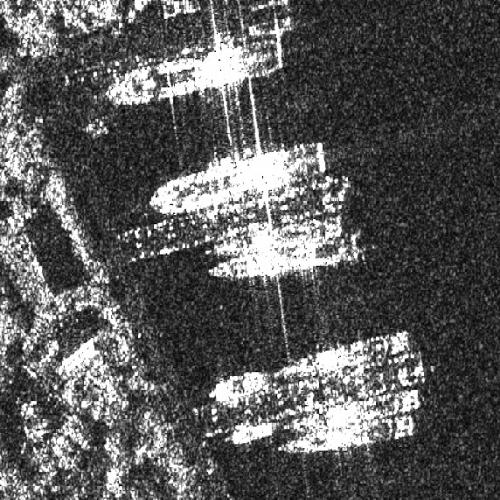ship: (148, 141, 328, 217), (105, 37, 284, 107), (273, 330, 411, 381), (208, 235, 359, 280), (284, 387, 421, 433), (207, 214, 345, 256), (278, 416, 415, 454), (207, 369, 271, 403), (225, 422, 279, 446)
